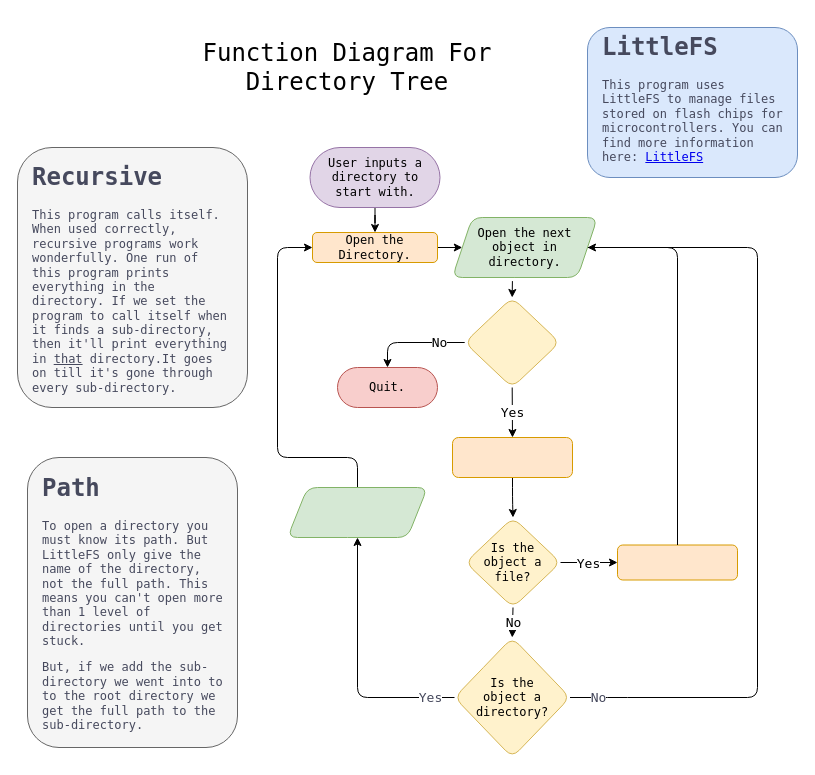
Image size: 815x775. Some labels were removed from this diagram. Here are the shapes that lost their labels. From the top down, the box of each, then its label:
(464, 296, 560, 388): Any more objects?
(452, 436, 572, 478): Print the objects name.
(286, 486, 428, 538): Update path to directory.
(616, 544, 738, 580): Print the size of the file.
